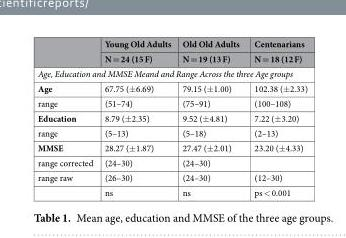table: (36, 37, 307, 198)
table column: (98, 37, 176, 198), (176, 37, 246, 198), (36, 37, 98, 198), (246, 37, 307, 198)
table column header: (36, 37, 307, 65)
table projected row header: (36, 65, 307, 80)
table row: (36, 50, 307, 65), (36, 65, 307, 80), (36, 80, 307, 95), (36, 95, 307, 110), (36, 110, 307, 125), (36, 139, 307, 154), (36, 154, 307, 169), (36, 169, 307, 184), (36, 125, 307, 139), (36, 184, 307, 198), (36, 37, 307, 50)
table spanning cell: (98, 37, 176, 65), (176, 37, 246, 65), (36, 169, 98, 198), (246, 37, 307, 65)
